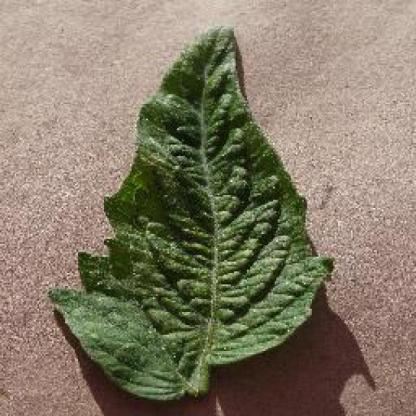Tomato_Spider_Mites: (50, 26, 334, 396)
